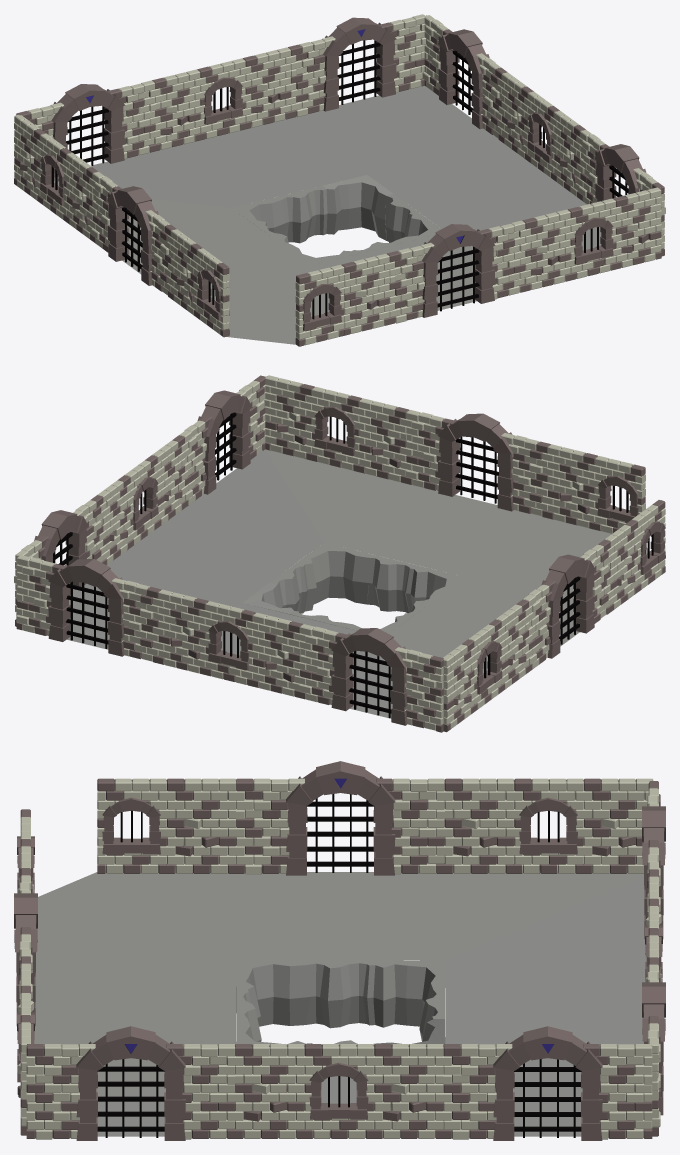
File: RoomR5.fbx
3 renders of one model, top to bottom at view 1: azimuth 30°, elevation 25°; view 2: azimuth 150°, elevation 25°; view 3: azimuth 270°, elevation 25°, orthographic. The views are drawn at different scales.
Parts seen in each view (by area): view 1: R-R5; view 2: R-R5; view 3: R-R5.
Part boxes in pixels (<box>): R-R5: <box>14,14,665,346</box>; R-R5: <box>14,375,665,732</box>; R-R5: <box>14,761,665,1140</box>.
Size of the model in its own units: 1972 by 554 by 1973.
